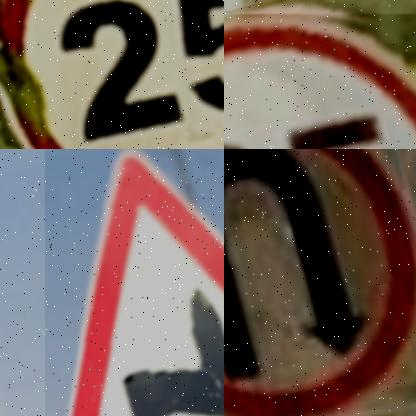Speed Limit (25 kmph): (224, 14, 416, 149)
U-Turn: (224, 149, 416, 416)
Zigzag Road Ahead: (72, 149, 224, 416)
